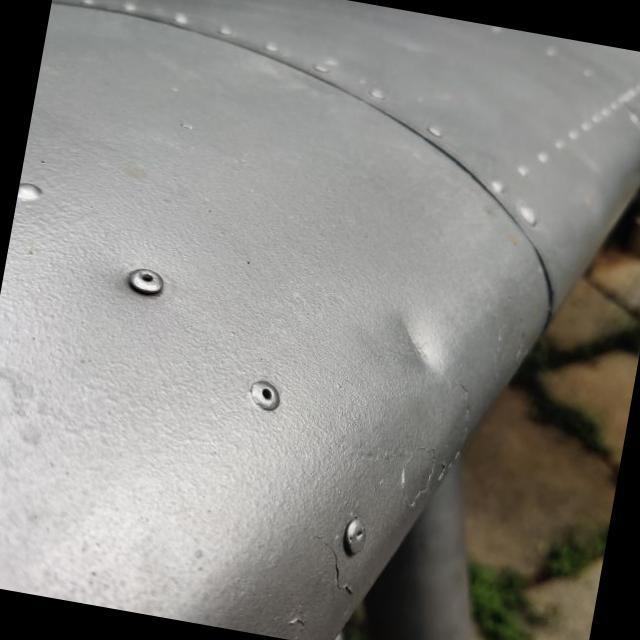Dent: (354, 282, 482, 402)
